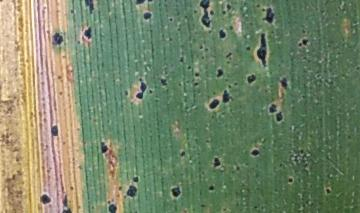tarspot: (255, 30, 269, 68), (198, 1, 215, 30), (135, 77, 148, 100), (261, 6, 276, 25), (48, 31, 67, 46), (81, 23, 93, 42), (221, 88, 233, 107), (168, 183, 183, 198), (207, 96, 221, 112), (126, 183, 139, 200), (83, 1, 97, 16), (48, 124, 61, 138), (98, 140, 109, 156), (38, 192, 51, 205), (245, 71, 257, 85), (61, 192, 70, 208), (141, 10, 154, 21), (223, 51, 233, 65), (279, 75, 288, 90), (106, 204, 120, 213), (211, 156, 221, 168), (215, 67, 224, 80), (274, 111, 284, 122), (217, 28, 227, 39), (249, 147, 261, 156), (207, 182, 216, 193), (267, 103, 277, 112), (159, 77, 168, 87), (131, 174, 140, 184), (60, 207, 74, 213), (286, 175, 295, 184), (301, 37, 309, 47), (178, 54, 185, 64), (133, 1, 146, 6), (225, 3, 233, 11), (167, 15, 174, 24), (105, 199, 114, 205), (179, 150, 188, 156), (220, 9, 227, 16), (117, 185, 124, 192), (199, 202, 206, 209), (75, 39, 83, 45), (123, 88, 129, 96), (193, 7, 199, 15), (192, 81, 200, 87), (227, 24, 235, 30), (226, 83, 234, 89), (301, 27, 307, 35), (325, 186, 330, 195), (299, 148, 305, 155), (296, 42, 303, 48), (244, 45, 251, 51), (69, 8, 75, 15), (194, 71, 200, 77), (168, 35, 174, 41), (69, 184, 74, 191), (186, 64, 191, 71), (233, 80, 238, 87), (148, 88, 153, 94), (200, 55, 206, 60), (204, 46, 209, 52), (198, 44, 203, 50), (176, 26, 181, 32), (183, 13, 188, 19), (146, 1, 153, 5), (175, 10, 180, 14)
